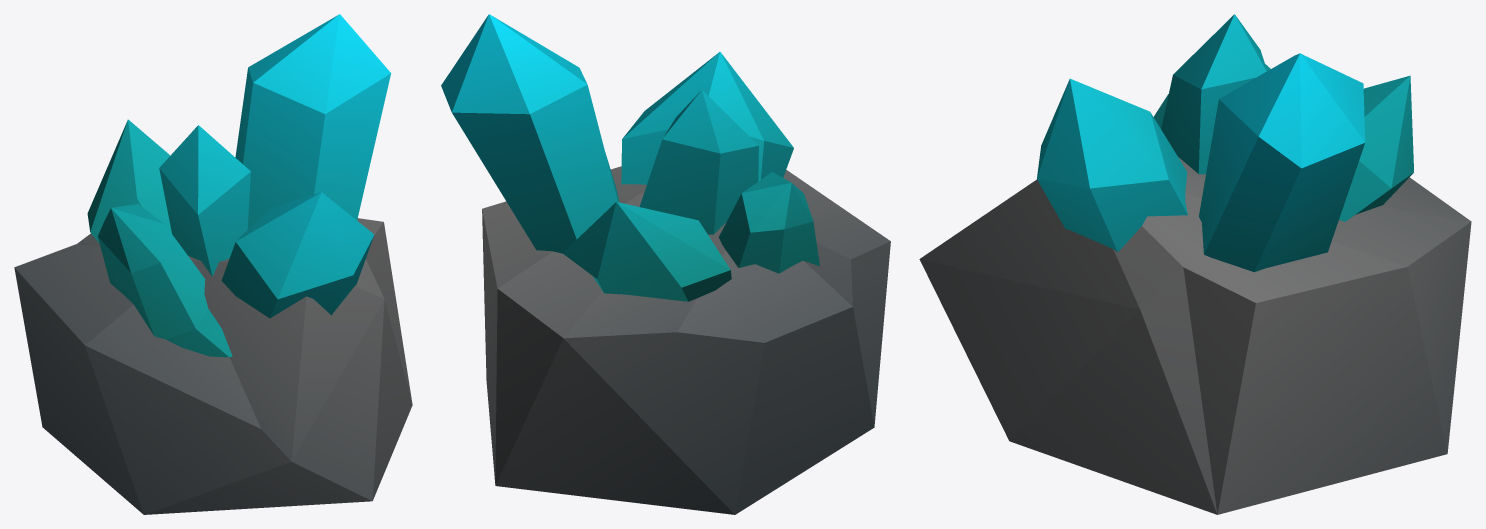
The model's file is Aerinite.fbx.
3 views of the same model, side by side, from view 1: azimuth 30°, elevation 25°; view 2: azimuth 150°, elevation 25°; view 3: azimuth 270°, elevation 25° (orthographic). The views are drawn at different scales.
Parts seen in each view (by area): view 1: AERINITE ROCK.001; view 2: AERINITE ROCK.001; view 3: AERINITE ROCK.001.
Part boxes in pixels (bbox=[...]): AERINITE ROCK.001: bbox=[14, 14, 412, 514]; AERINITE ROCK.001: bbox=[441, 14, 890, 514]; AERINITE ROCK.001: bbox=[919, 14, 1471, 514].
Bounding box in the file's own units: 166 × 175 × 199.
2 materials, 2 textured.
